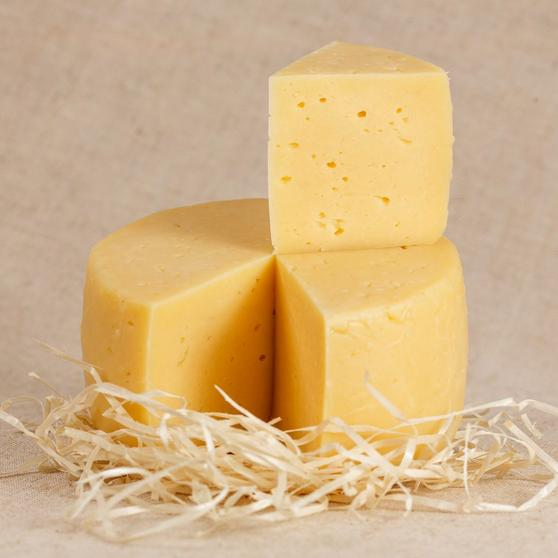cheese: (262, 39, 451, 246)
